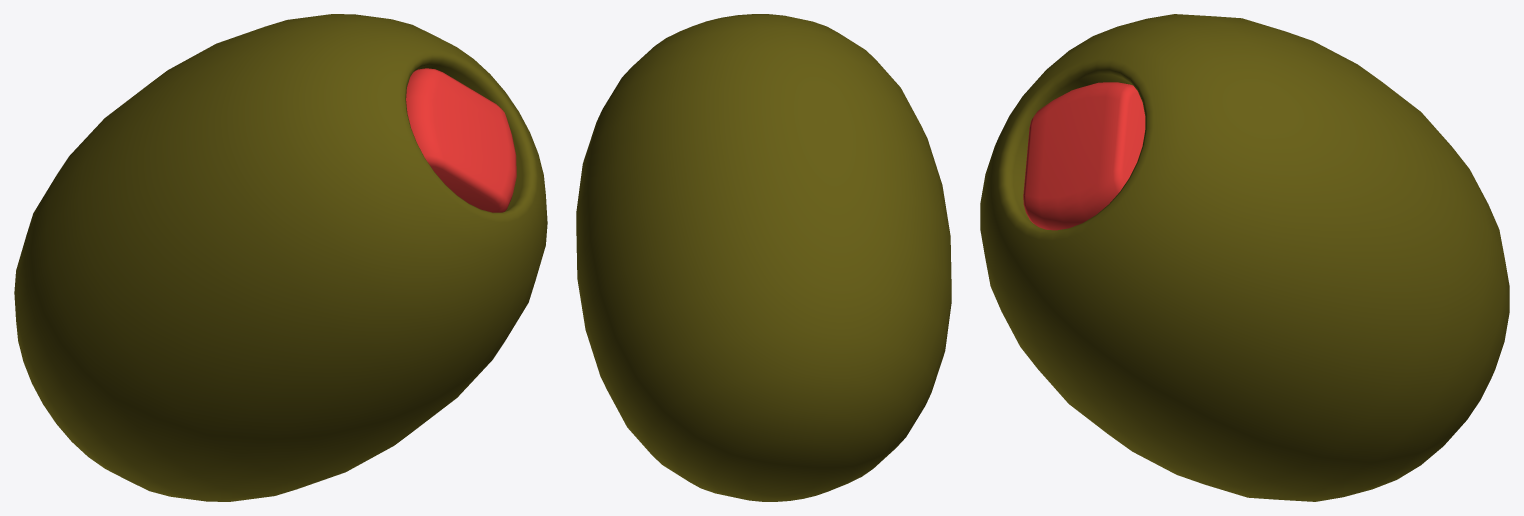
Rendered from olive.glb.
The picture shows the model from 3 angles, left to right: view 1: azimuth 30°, elevation 25°; view 2: azimuth 150°, elevation 25°; view 3: azimuth 270°, elevation 25°; orthographic projection. The views are drawn at different scales.
Visible parts, largest first — view 1: Sphere.481; view 2: Sphere.481; view 3: Sphere.481.
Part boxes in pixels (x1=…): Sphere.481: x1=14, y1=14, x2=547, y2=501; Sphere.481: x1=576, y1=14, x2=951, y2=501; Sphere.481: x1=980, y1=14, x2=1509, y2=501.
Size of the model in its own units: 1.93 by 2.08 by 2.05.
1 material, 1 textured.
